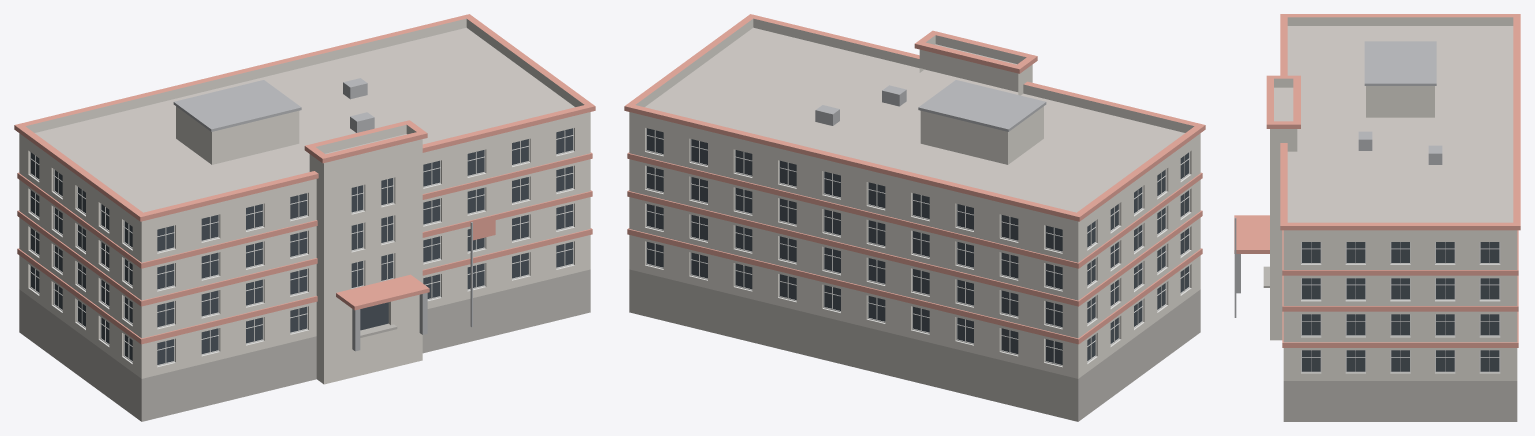
The model's file is public_flat_4_l.glb.
3 renders of one model, left to right at view 1: azimuth 30°, elevation 25°; view 2: azimuth 150°, elevation 25°; view 3: azimuth 270°, elevation 25°, orthographic. The views are drawn at different scales.
Visible parts, largest first — view 1: public_flat_4_l; view 2: public_flat_4_l; view 3: public_flat_4_l.
Part boxes in pixels (<box>): public_flat_4_l: <box>14,14,595,421</box>; public_flat_4_l: <box>624,14,1205,421</box>; public_flat_4_l: <box>1234,14,1520,421</box>.
Bounding box in the file's own units: 36.5 × 17.95 × 20.85.
